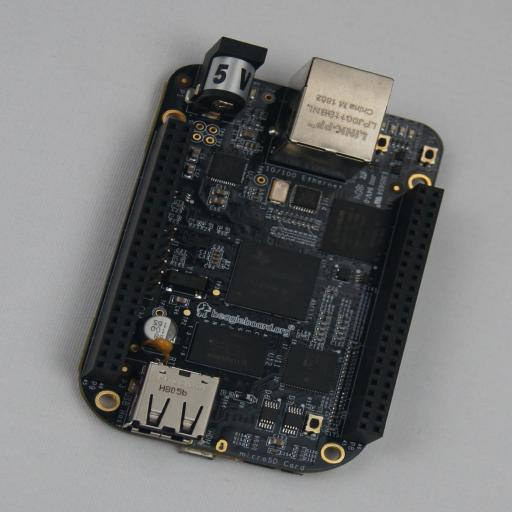Beaglebone Black: (77, 37, 444, 475)
